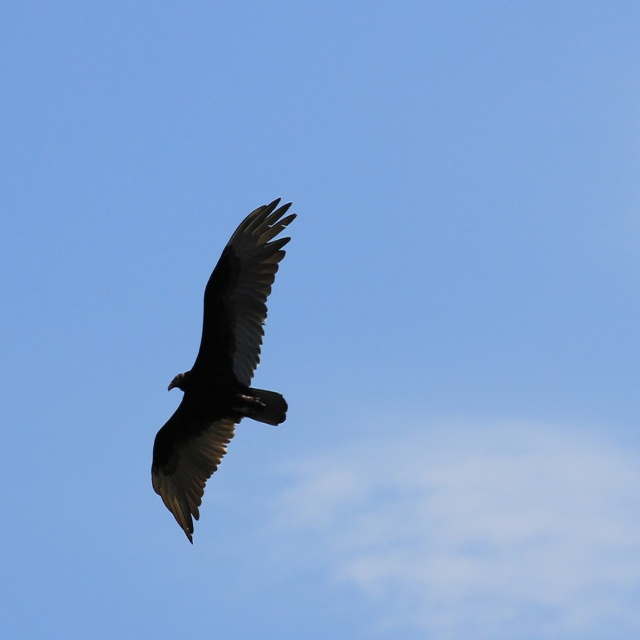Raven: (151, 197, 298, 545)
